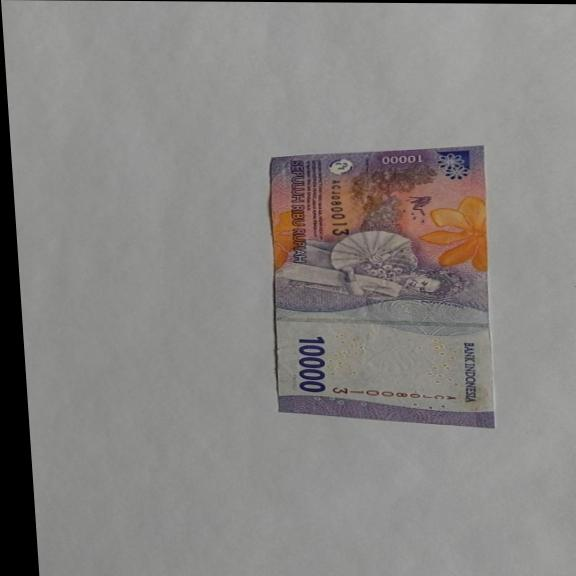Kertas: (259, 143, 503, 429), (293, 335, 331, 393)
